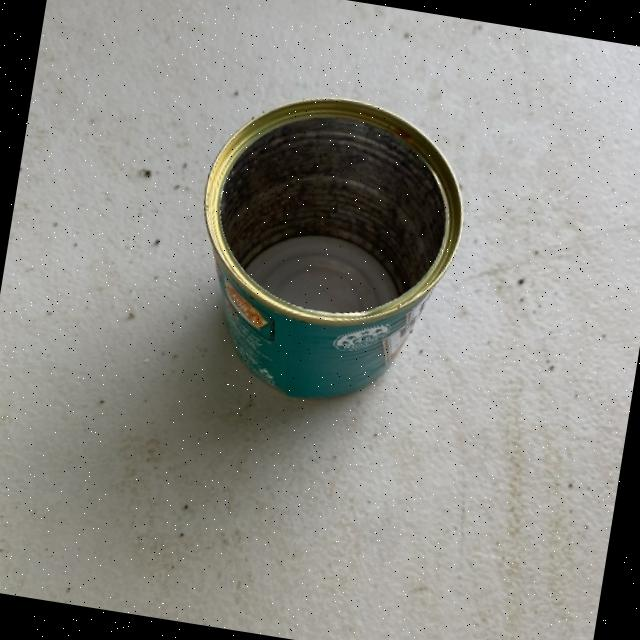metal: (175, 77, 480, 419)
